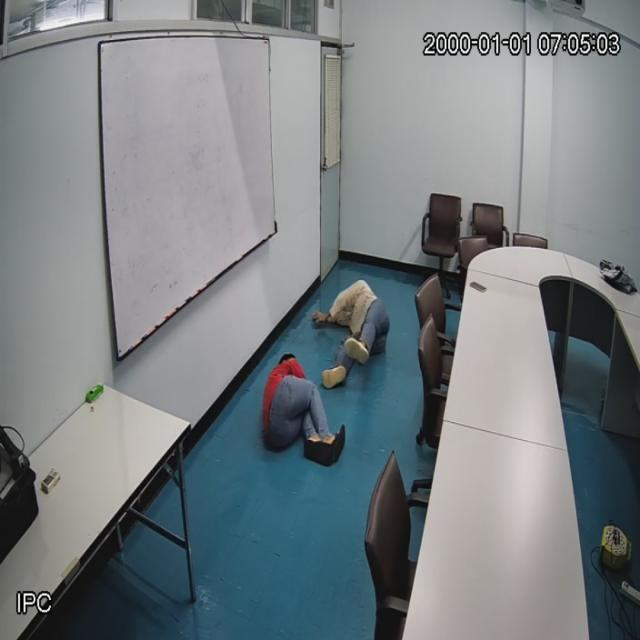fall: (262, 353, 340, 463), (315, 278, 389, 385)
